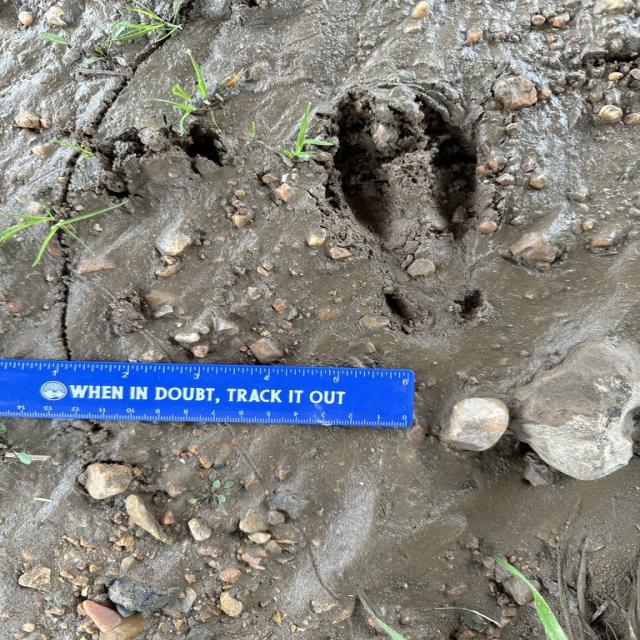deer: (325, 91, 483, 245)
